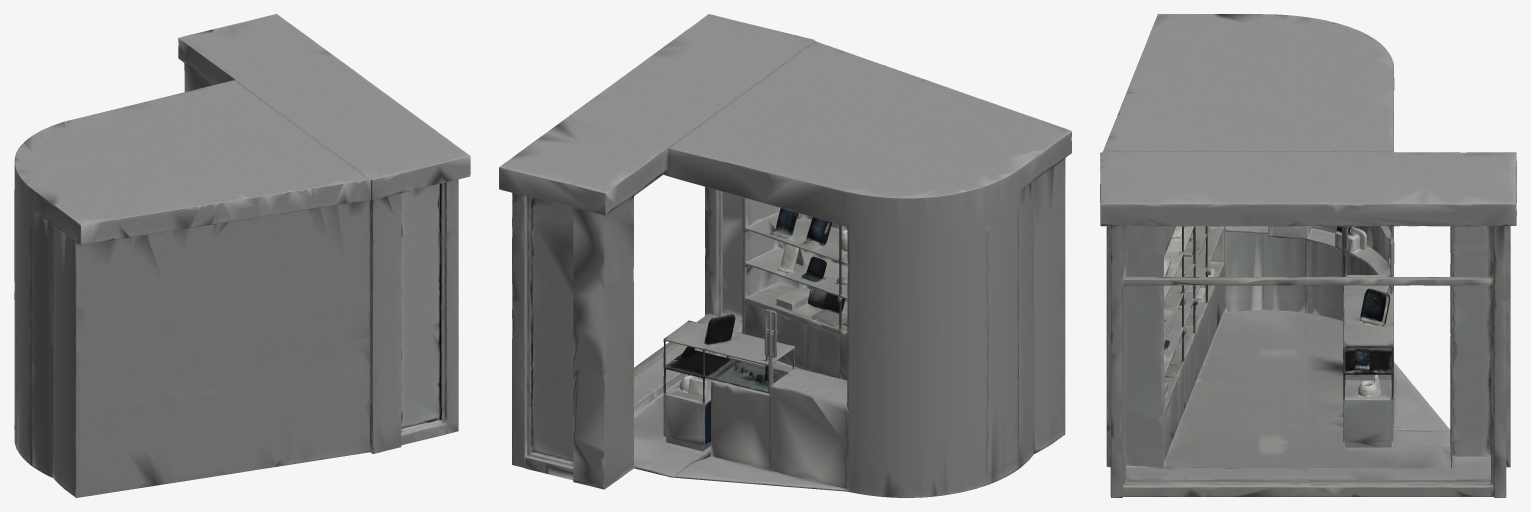
The model's file is frontelc.glb.
3 views of the same model, side by side, from view 1: azimuth 30°, elevation 25°; view 2: azimuth 150°, elevation 25°; view 3: azimuth 270°, elevation 25° (orthographic). The views are drawn at different scales.
Visible parts, largest first — view 1: tripo_node_19cd6529-3a9a-4625-a380-2c778788e2b9; view 2: tripo_node_19cd6529-3a9a-4625-a380-2c778788e2b9; view 3: tripo_node_19cd6529-3a9a-4625-a380-2c778788e2b9.
Part boxes in pixels (bbox=[...]): tripo_node_19cd6529-3a9a-4625-a380-2c778788e2b9: bbox=[14, 14, 470, 497]; tripo_node_19cd6529-3a9a-4625-a380-2c778788e2b9: bbox=[499, 14, 1071, 497]; tripo_node_19cd6529-3a9a-4625-a380-2c778788e2b9: bbox=[1100, 14, 1516, 497].
Size of the model in its own units: 2.88 by 2.1 by 2.66.
Materials: 1 (1 with a texture image).
